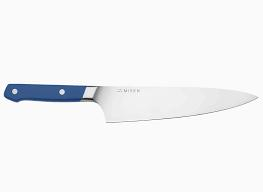Knife: (3, 82, 258, 123)
